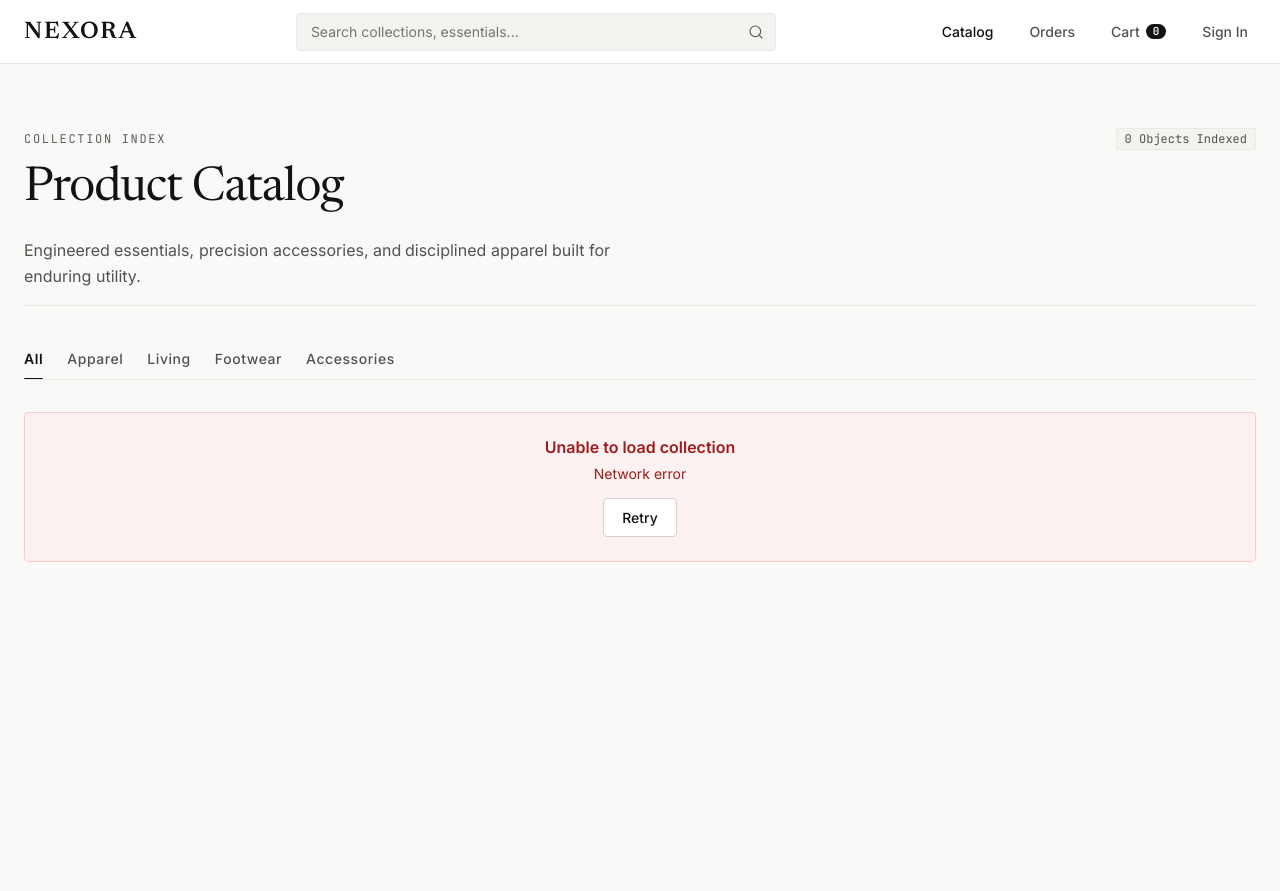
Test: CatalogPage component › displays error message and retry button when products fail to load
Check: the message "Unable to load collection Network error Retry" is shown, box [24,412,1256,562]
Check: the text "Network error" is shown, box [594,465,686,482]
Click the button "Retry" at x=640, y=518, box [603,498,677,537]
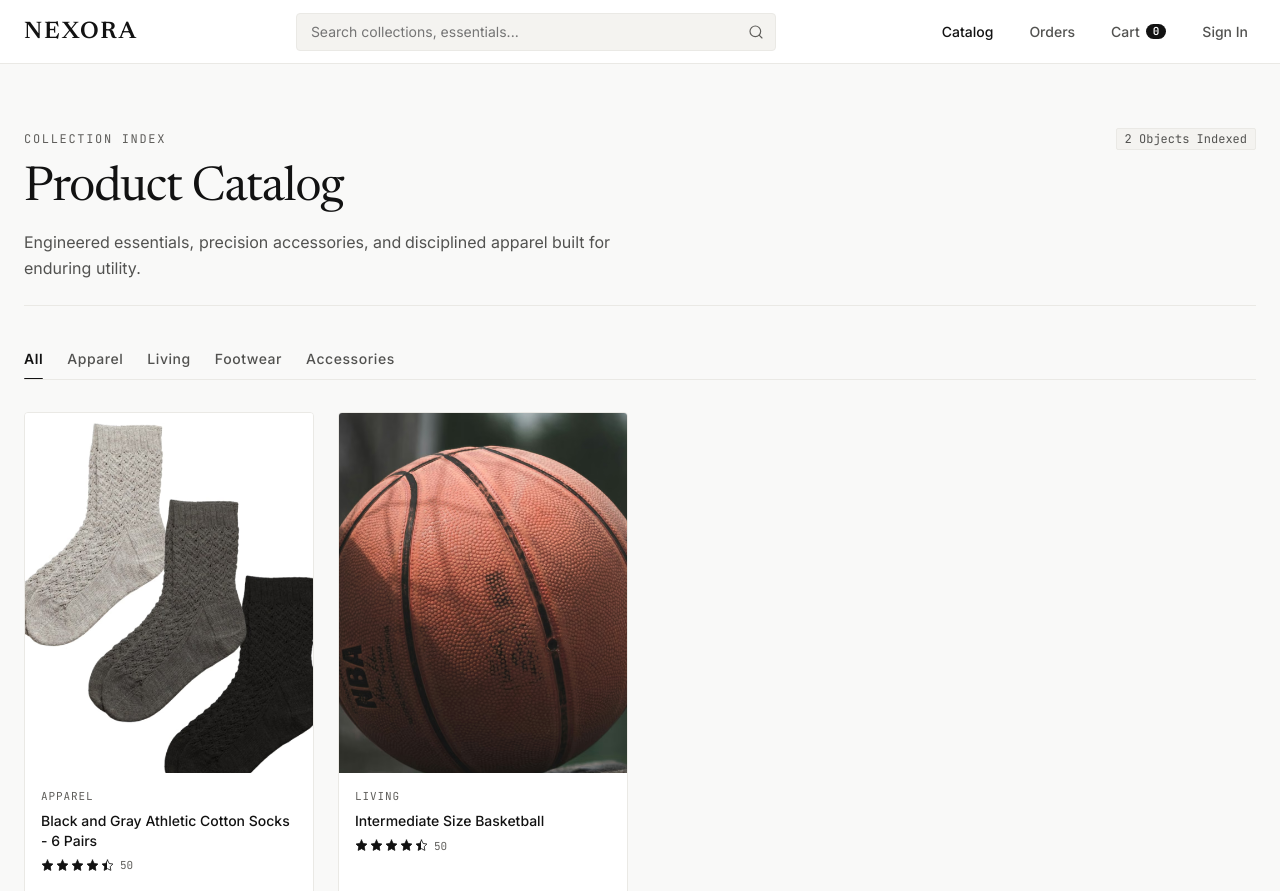
Check: the message "Unable to load collection Network error Retry" is gone
